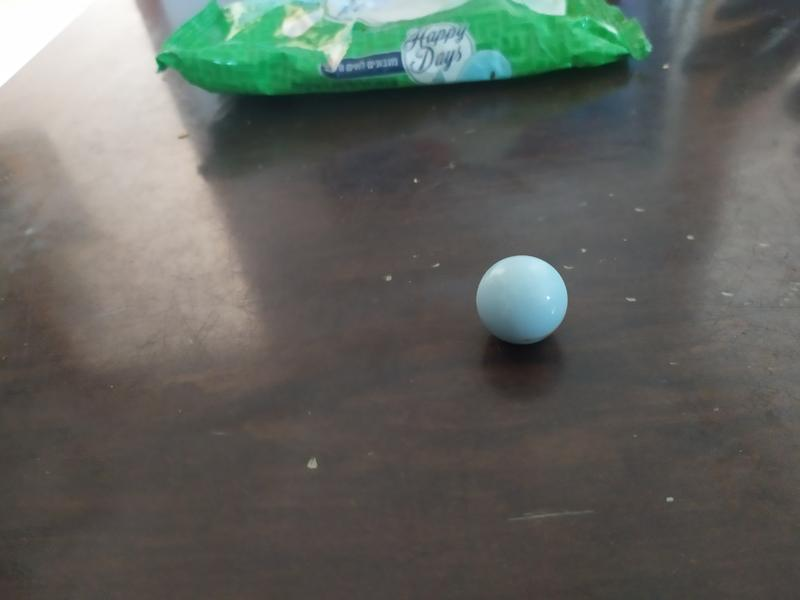Warning: (471, 252, 571, 348)
